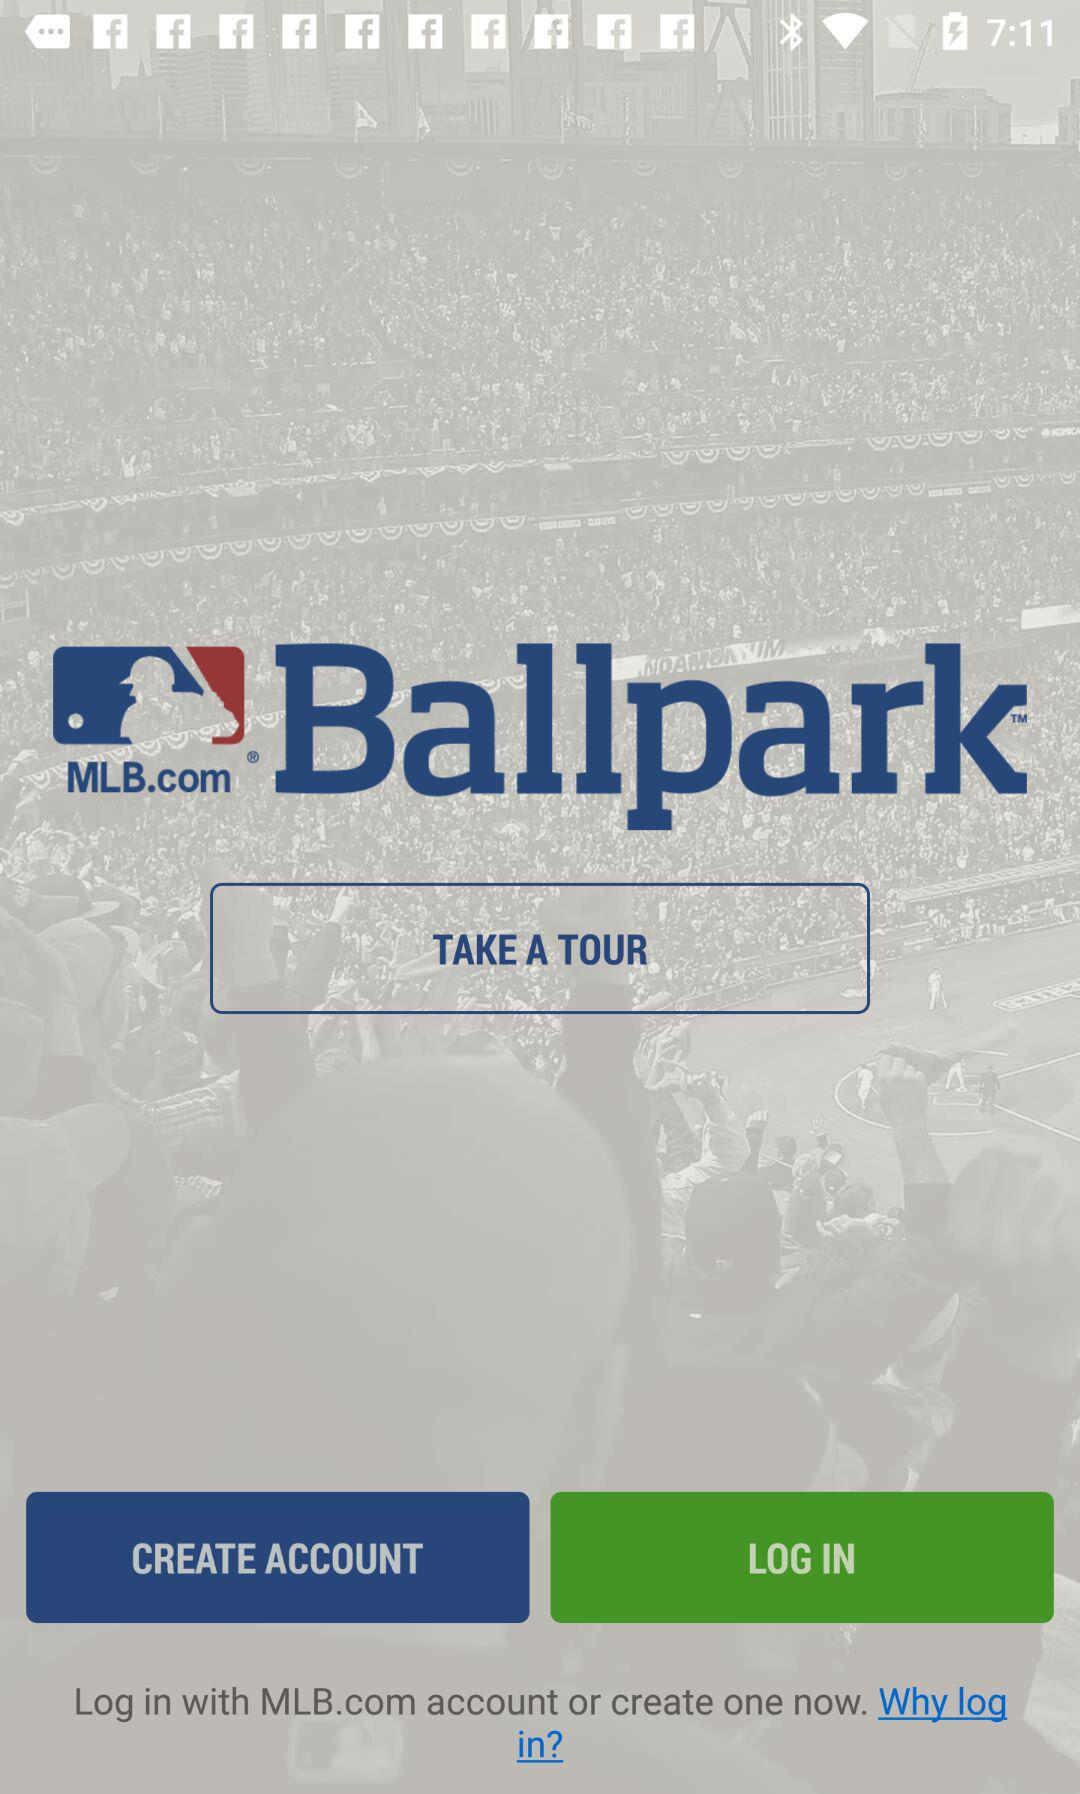Image: (51, 641, 1034, 839)
Text: (76, 1686, 1008, 1765)
TextButton: (210, 883, 871, 1016), (550, 1492, 1054, 1624), (26, 1492, 530, 1624)
UpperTaskBar: (1, 1, 1080, 54)
